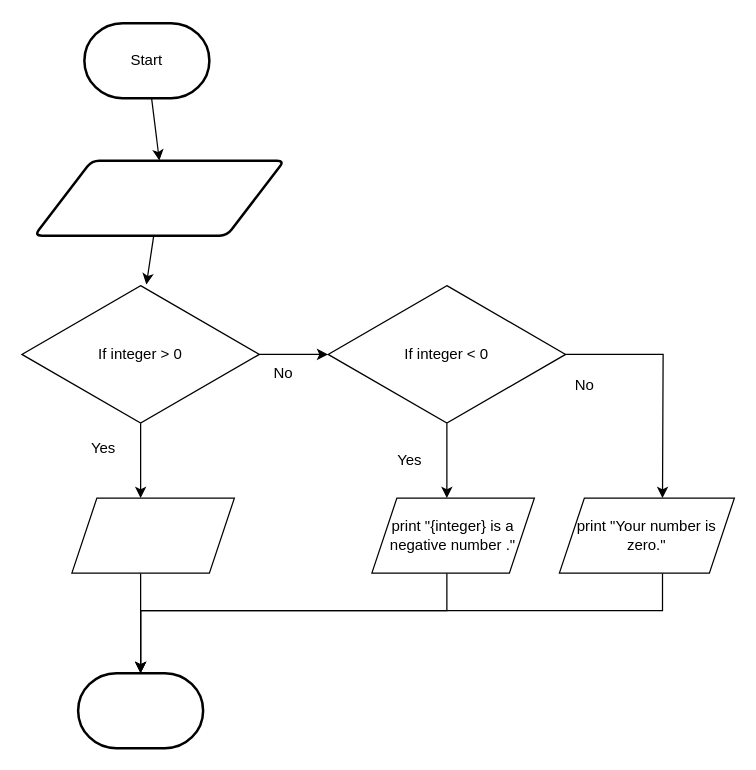
The diagram is 756 pixels wide and 770 high, and some of its shapes have lost their labels. Here are the shapes that lost their labels. From the top down, the centre of each, then its label:
(158,197): get integer
(152,535): print "{integer} is a positive number."
(140,710): Stop
